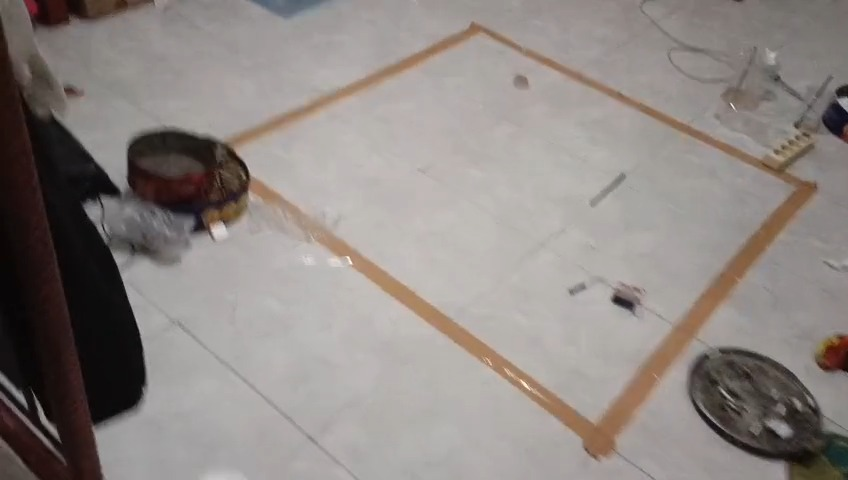floor marking: (227, 23, 816, 458)
